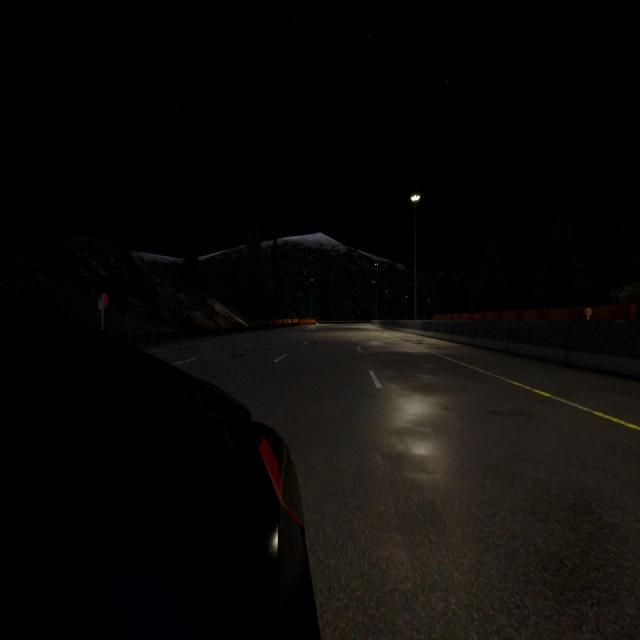Traffic_Signs: (97, 293, 109, 311), (584, 308, 593, 316)
Vehicle: (0, 288, 320, 640)
